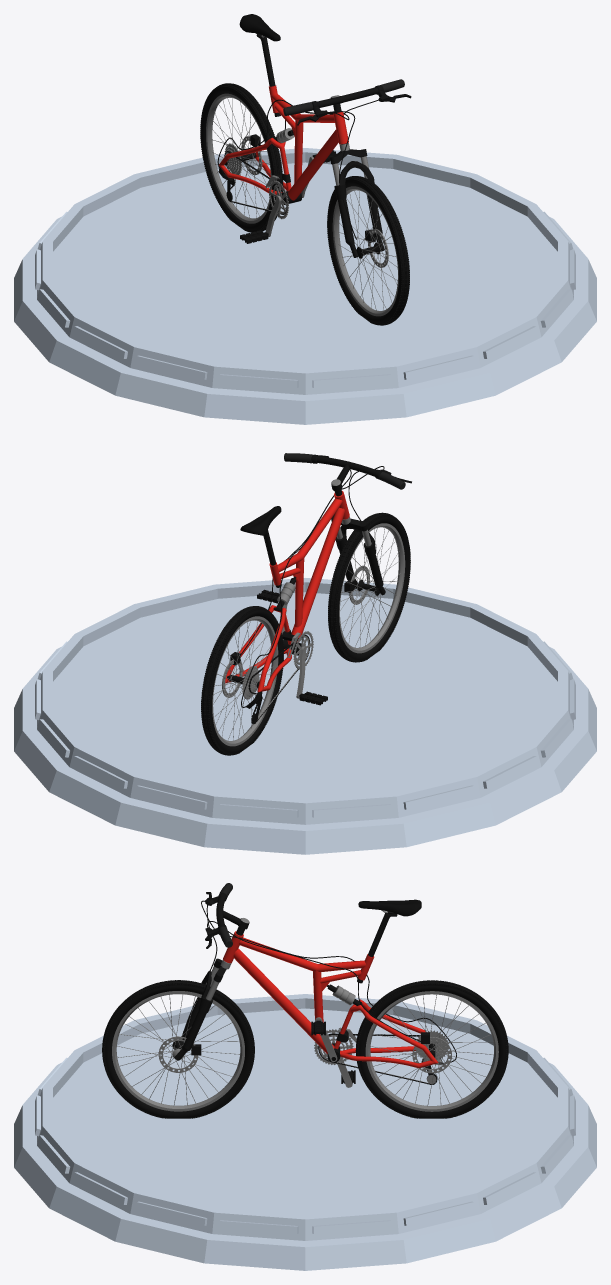
Rendered from Bicycle 1.FBX.
The picture shows the model from 3 angles, top to bottom: view 1: azimuth 30°, elevation 25°; view 2: azimuth 150°, elevation 25°; view 3: azimuth 270°, elevation 25°; orthographic projection.
Parts seen in each view (by area): view 1: platform005, koleso01, koleso, Line04, Group004, Line14, Box06, Line12, Plane02; view 2: platform005, koleso01, koleso, Line04, Group004, Line12, Line14, Box06, Plane02; view 3: platform005, koleso01, koleso, Line04, Group004, Line12, Box06, Line14, Plane02.
Part boxes in pixels (x1=…): platform005: x1=14, y1=148, x2=596, y2=424; koleso01: x1=327, y1=176, x2=409, y2=325; koleso: x1=200, y1=83, x2=283, y2=232; Line04: x1=269, y1=85, x2=348, y2=200; Group004: x1=211, y1=33, x2=404, y2=217; Line14: x1=330, y1=149, x2=384, y2=257; Box06: x1=337, y1=191, x2=397, y2=310; Line12: x1=219, y1=137, x2=291, y2=194; Plane02: x1=239, y1=14, x2=280, y2=41; platform005: x1=14, y1=578, x2=596, y2=854; koleso01: x1=328, y1=512, x2=410, y2=662; koleso: x1=201, y1=606, x2=283, y2=755; Line04: x1=269, y1=491, x2=349, y2=642; Group004: x1=213, y1=453, x2=405, y2=740; Line12: x1=225, y1=605, x2=291, y2=692; Line14: x1=331, y1=514, x2=385, y2=595; Box06: x1=340, y1=528, x2=400, y2=647; Plane02: x1=240, y1=506, x2=281, y2=535; platform005: x1=14, y1=994, x2=596, y2=1270; koleso01: x1=102, y1=980, x2=254, y2=1118; koleso: x1=355, y1=980, x2=508, y2=1118; Line04: x1=223, y1=931, x2=374, y2=1053; Group004: x1=205, y1=883, x2=493, y2=1106; Line12: x1=334, y1=999, x2=438, y2=1068; Box06: x1=117, y1=994, x2=240, y2=1105; Line14: x1=174, y1=958, x2=226, y2=1060; Plane02: x1=358, y1=899, x2=421, y2=916.
Size of the model in its own units: 395 by 180 by 389.
